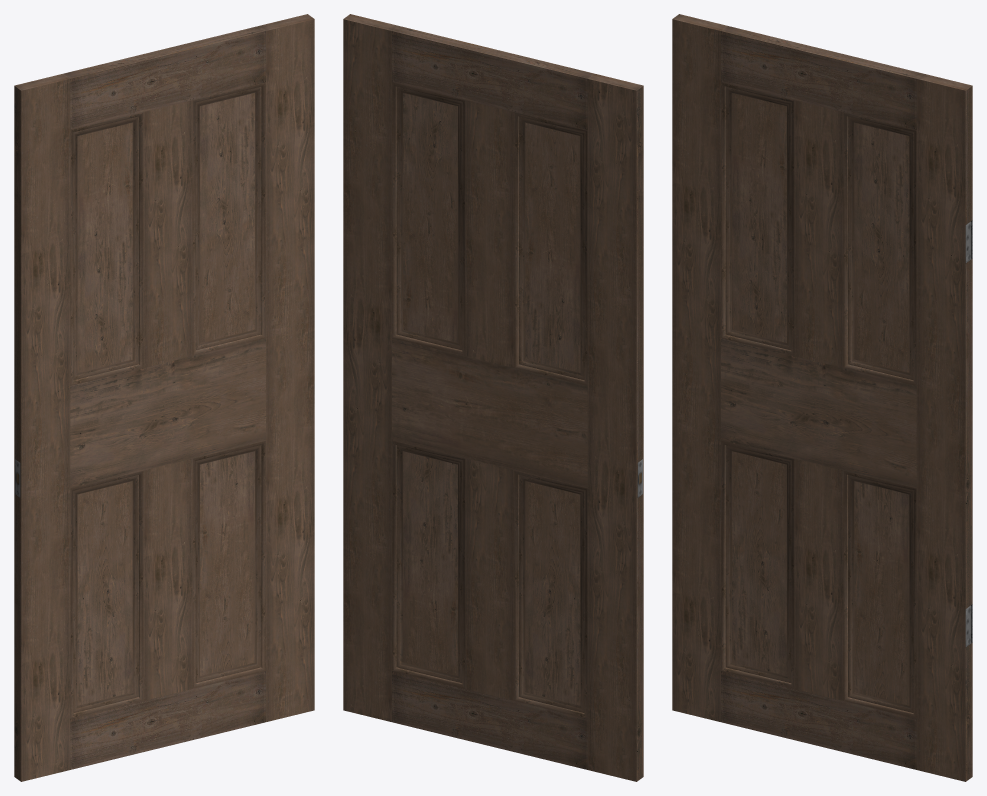
The model's file is door.fbx.
The picture shows the model from 3 angles, left to right: view 1: azimuth 30°, elevation 25°; view 2: azimuth 150°, elevation 25°; view 3: azimuth 330°, elevation 25°; orthographic projection.
Parts seen in each view (by area): view 1: renderMesh0; view 2: renderMesh0; view 3: renderMesh0.
Boxes of the visible parts, x1,y1,x2,y2 form: renderMesh0: (14, 14, 314, 781); renderMesh0: (343, 14, 643, 781); renderMesh0: (672, 14, 972, 781).
Bounding box in the file's own units: 48 × 108 × 2.
2 materials, 2 textured.
